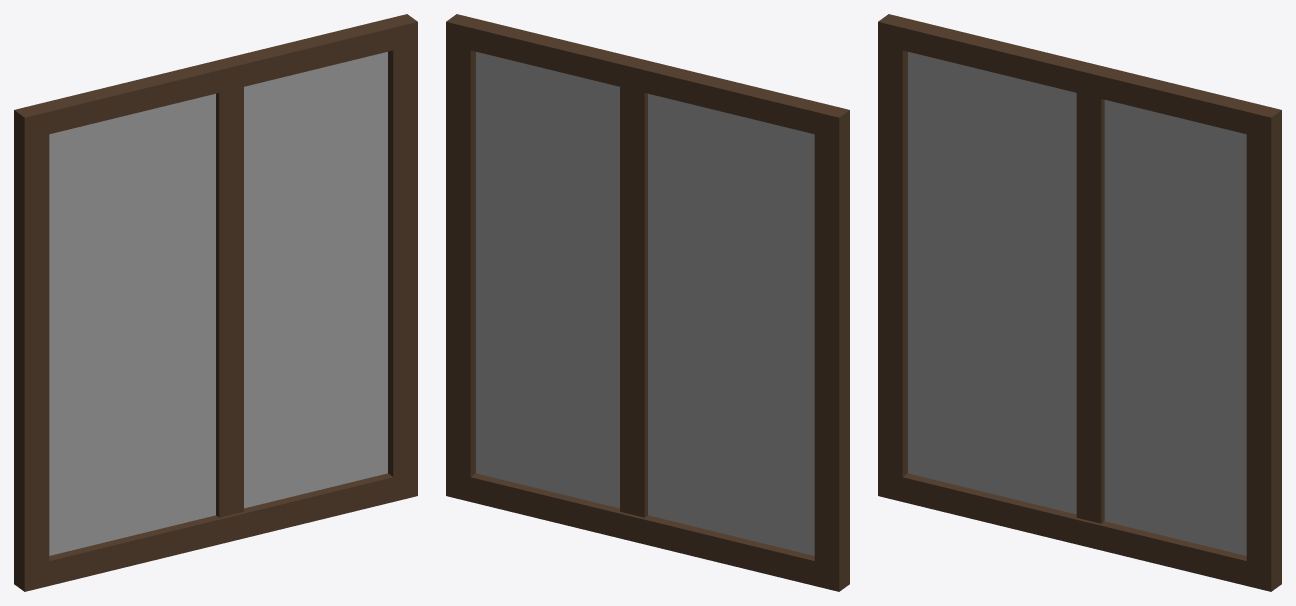
File: Window_6.fbx
3 renders of one model, left to right at view 1: azimuth 30°, elevation 25°; view 2: azimuth 150°, elevation 25°; view 3: azimuth 330°, elevation 25°, orthographic.
Parts seen in each view (by area): view 1: Window_Glass9, polySurface2318; view 2: Window_Glass9, polySurface2318; view 3: Window_Glass9, polySurface2318.
Boxes of the visible parts, x1=… form: Window_Glass9: x1=49, y1=52, x2=387, y2=555; polySurface2318: x1=14, y1=14, x2=417, y2=591; Window_Glass9: x1=476, y1=52, x2=814, y2=555; polySurface2318: x1=446, y1=14, x2=849, y2=591; Window_Glass9: x1=908, y1=52, x2=1246, y2=555; polySurface2318: x1=878, y1=14, x2=1281, y2=591.
Bounding box in the file's own units: 3.2 × 3.69 × 0.15.
2 materials, 1 textured.
